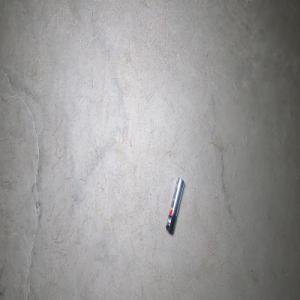Battery: (165, 176, 184, 234)
